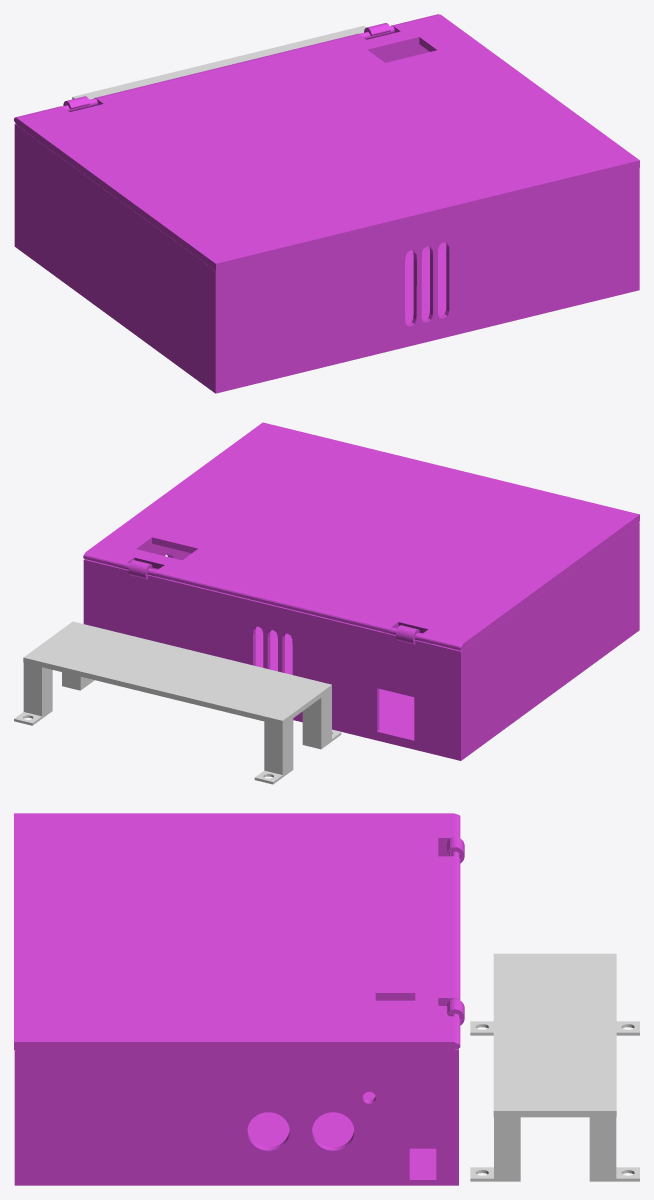
File: fiks1.glb
The picture shows the model from 3 angles, top to bottom: view 1: azimuth 30°, elevation 25°; view 2: azimuth 150°, elevation 25°; view 3: azimuth 270°, elevation 25°; orthographic projection. The views are drawn at different scales.
Parts seen in each view (by area): view 1: Tutup, Kotak, Cube.001; view 2: Tutup, Kotak, Cube.001; view 3: Tutup, Kotak, Cube.001.
Part boxes in pixels (x1=…): Tutup: x1=14, y1=14, x2=639, y2=270; Kotak: x1=14, y1=23, x2=639, y2=393; Cube.001: x1=72, y1=26, x2=365, y2=99; Tutup: x1=83, y1=422, x2=639, y2=650; Kotak: x1=83, y1=521, x2=639, y2=760; Cube.001: x1=14, y1=621, x2=341, y2=784; Tutup: x1=14, y1=813, x2=460, y2=1049; Kotak: x1=14, y1=837, x2=464, y2=1185; Cube.001: x1=470, y1=953, x2=639, y2=1181.
Size of the model in its own units: 0.2037 by 0.0614 by 0.2356.
